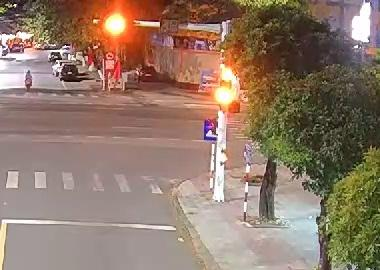stop_line: (3, 219, 175, 230)
yellow_light: (101, 12, 130, 39), (213, 85, 235, 106)
